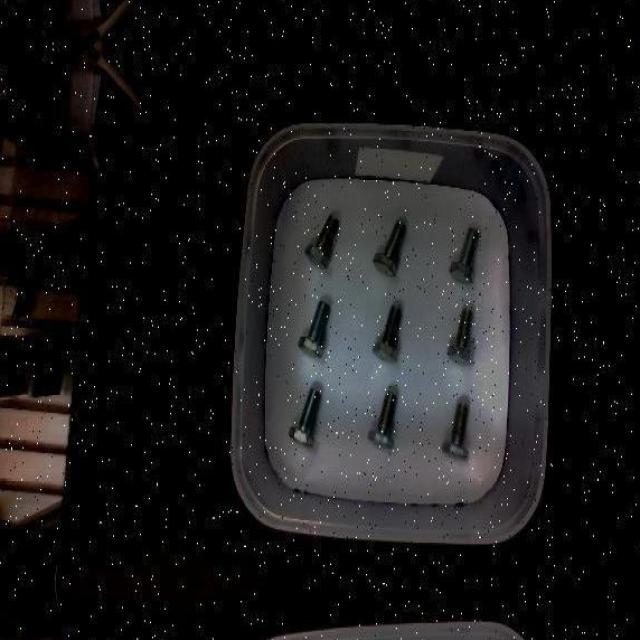screw: (289, 387, 321, 448), (373, 221, 406, 277), (298, 299, 329, 357), (304, 215, 338, 267), (450, 226, 480, 283), (372, 305, 402, 362), (442, 403, 472, 459), (448, 309, 477, 365), (368, 392, 397, 447)
